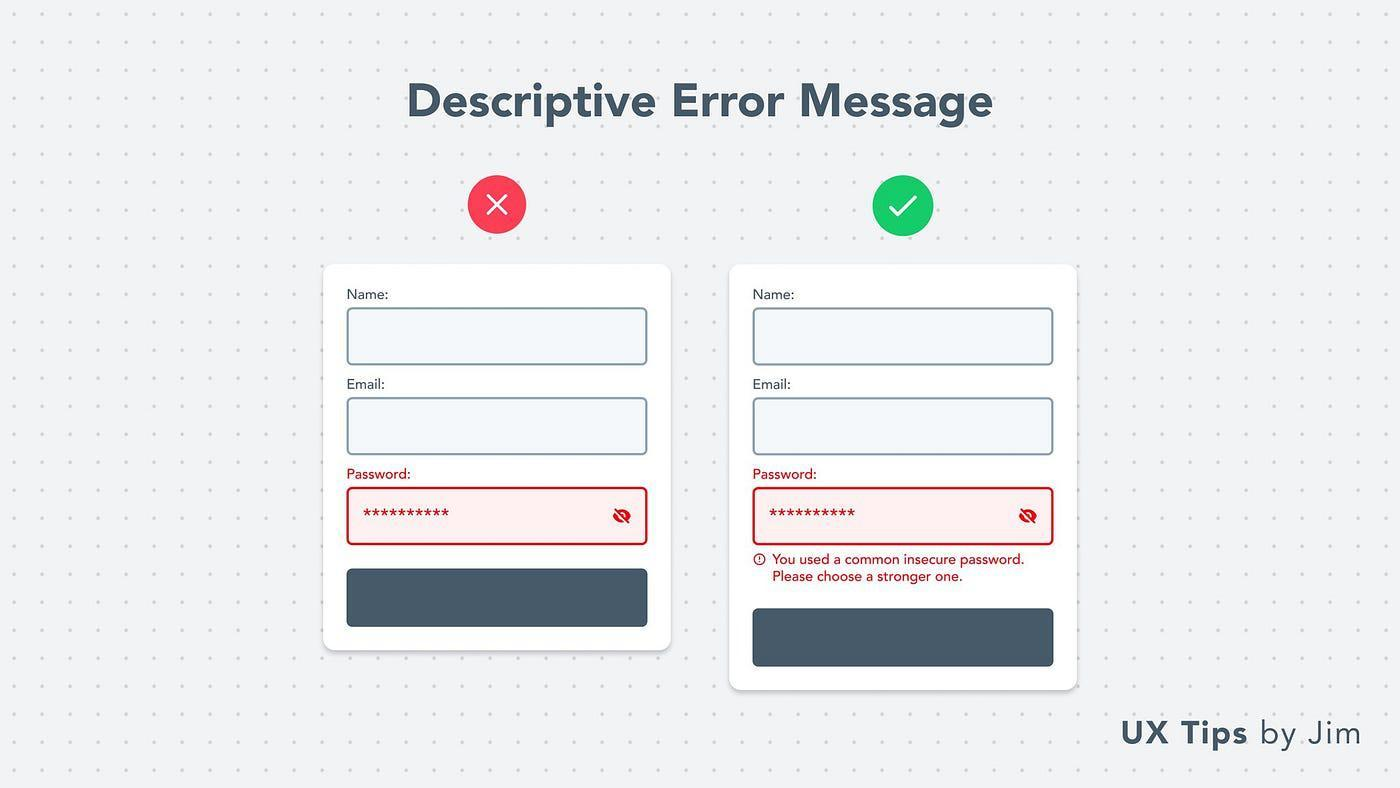button: (753, 608, 1054, 670), (346, 569, 650, 627)
icon: (754, 550, 769, 572)
input: (348, 307, 648, 366), (754, 487, 1052, 546), (754, 307, 1053, 365), (755, 401, 1054, 458), (349, 399, 646, 456), (346, 489, 648, 545)
label: (774, 551, 1028, 588), (753, 465, 833, 482), (342, 284, 392, 304), (342, 468, 415, 481), (345, 375, 389, 393), (753, 284, 794, 303), (755, 376, 798, 391)
